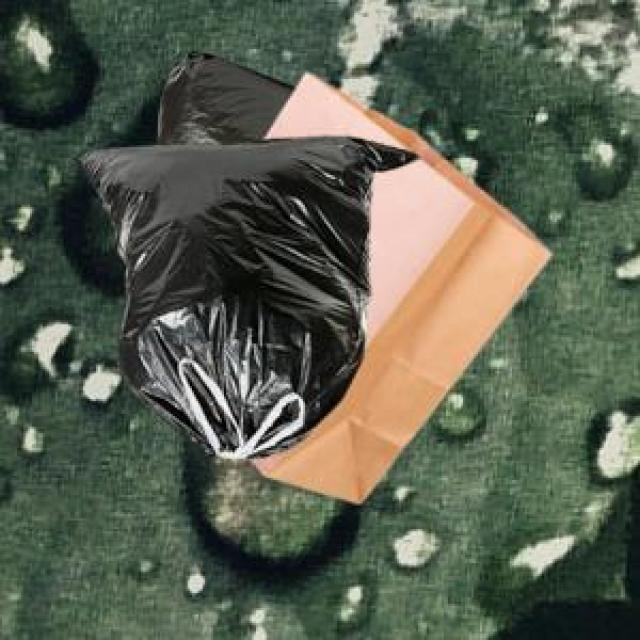miscellaneous trash: (70, 132, 414, 454), (154, 47, 292, 141)
paper: (248, 68, 546, 499)
